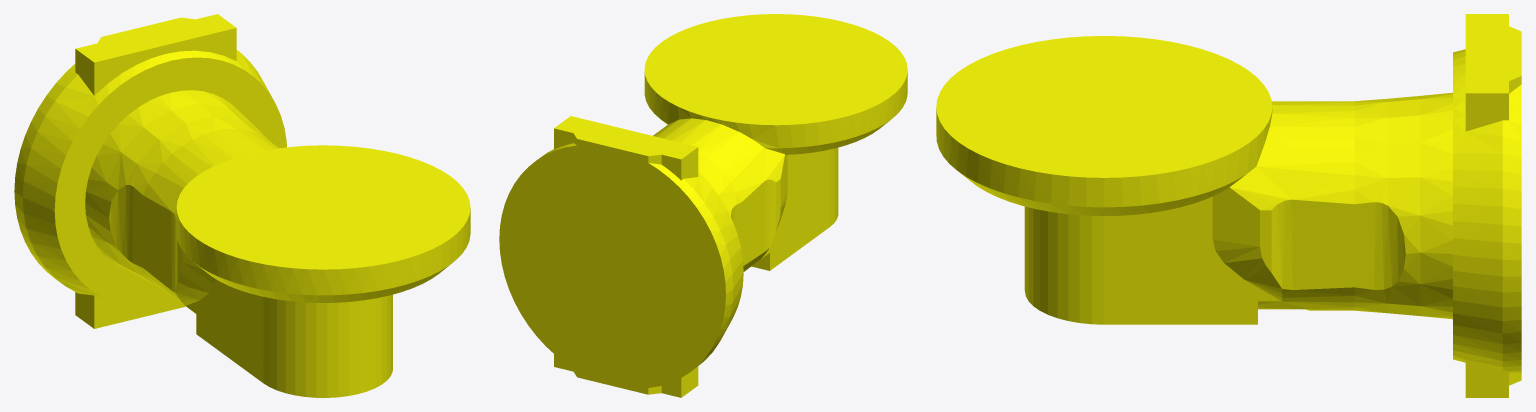
3 views of the same model, side by side, from view 1: azimuth 30°, elevation 25°; view 2: azimuth 150°, elevation 25°; view 3: azimuth 270°, elevation 25° (orthographic). The views are drawn at different scales.
Parts seen in each view (by area): view 1: node; view 2: node; view 3: node.
Part boxes in pixels (x1=…): node: x1=14, y1=14, x2=470, y2=397; node: x1=499, y1=14, x2=907, y2=397; node: x1=936, y1=14, x2=1521, y2=397.
Size of the model in its own units: 186 by 186 by 324.
